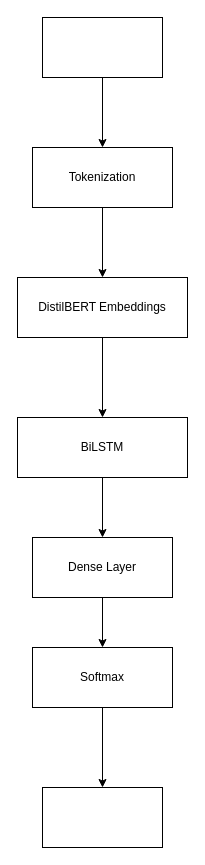
The diagram is 205 pixels wide and 865 high, and some of its shapes have lost their labels. Here are the shapes that lost their labels. From the top down, the centre of each, then its label:
At pixel 102 47: "Input Word".
At pixel 102 817: "Emotion Label".
